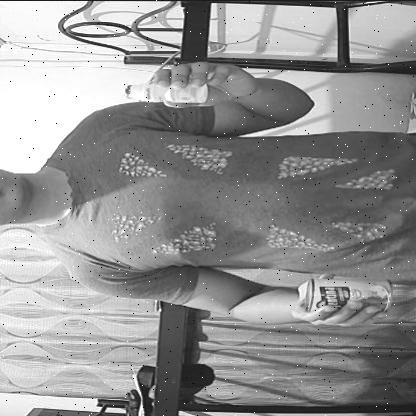Others: (120, 71, 210, 112)
